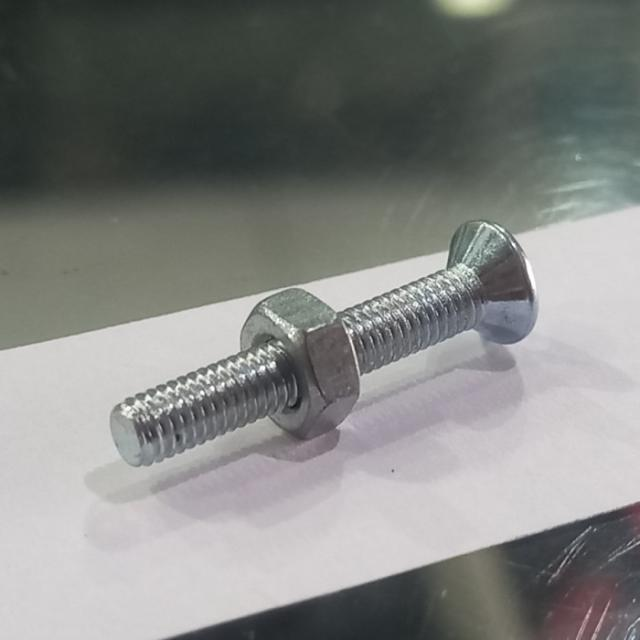Logam: (100, 186, 552, 500)
